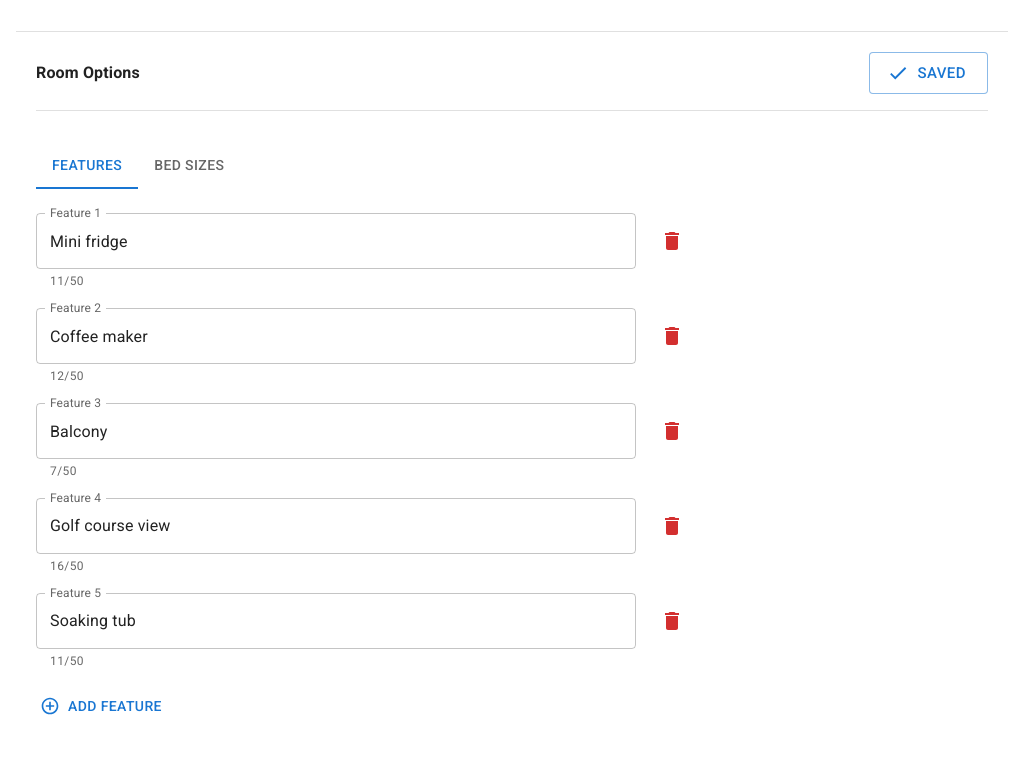
Test: Room Options page › refuses a duplicate name in any case and focuses the field
(page scrolled)
Click the button "Add Feature" at (103, 706), box [36,688,170,724]
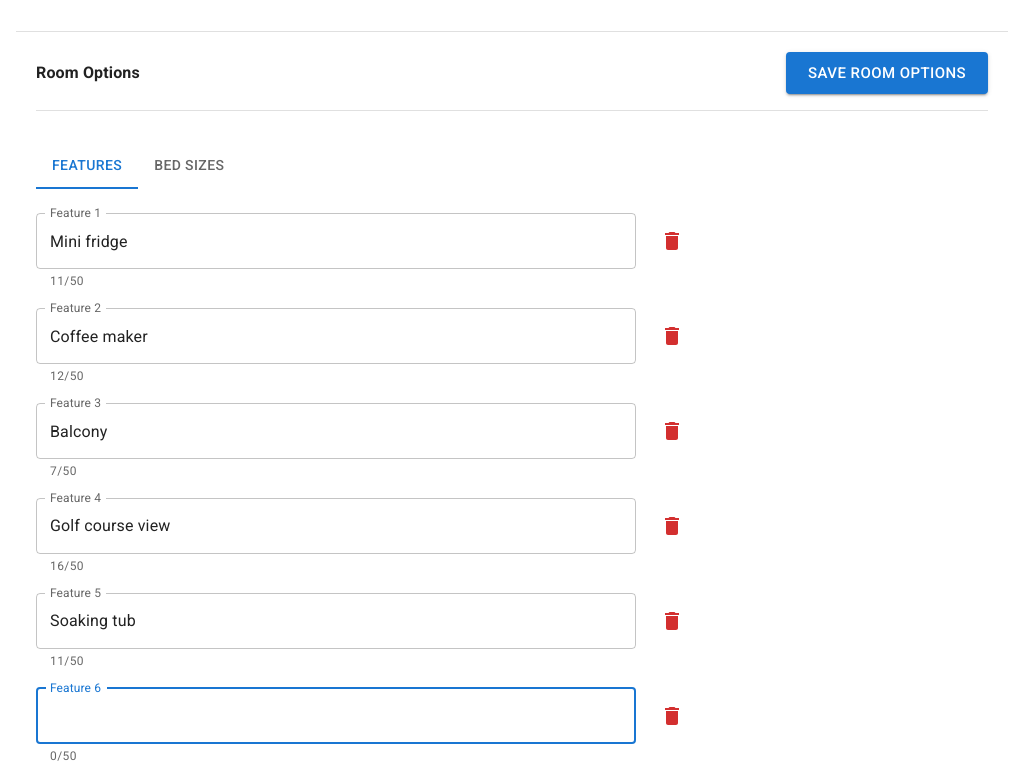
Type "BALCONY" into the field labelled "Feature 6" at (336, 716), box [36,688,636,744]
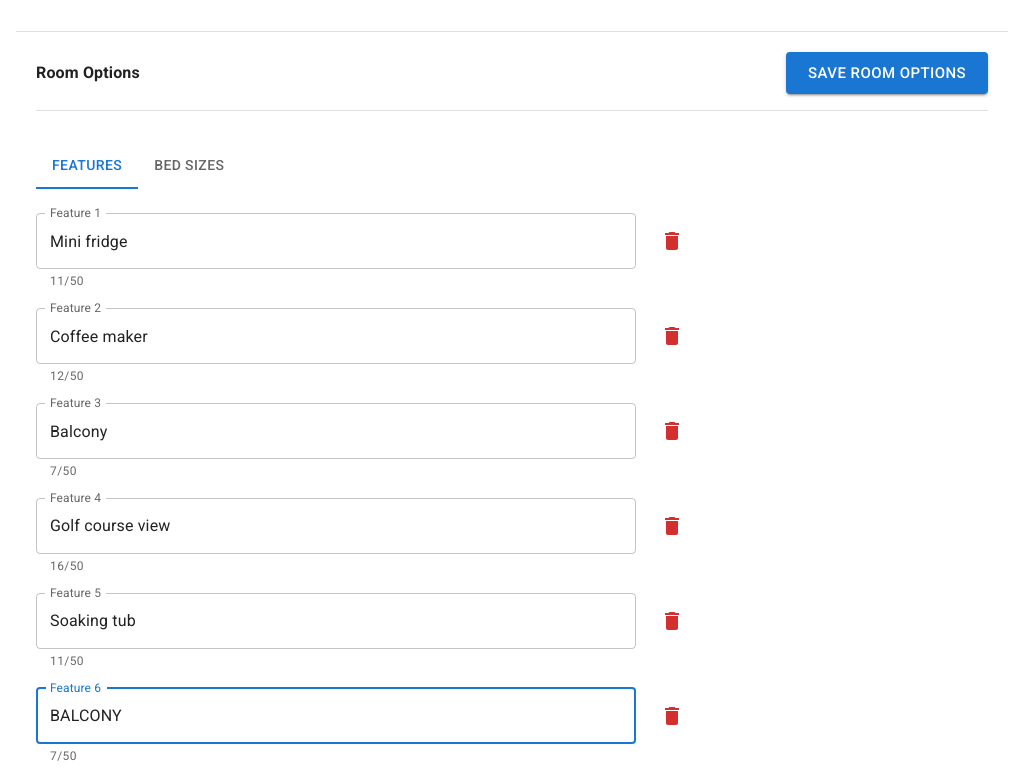
Click the button "Save Room Options" at (887, 73), box [786,52,988,94]
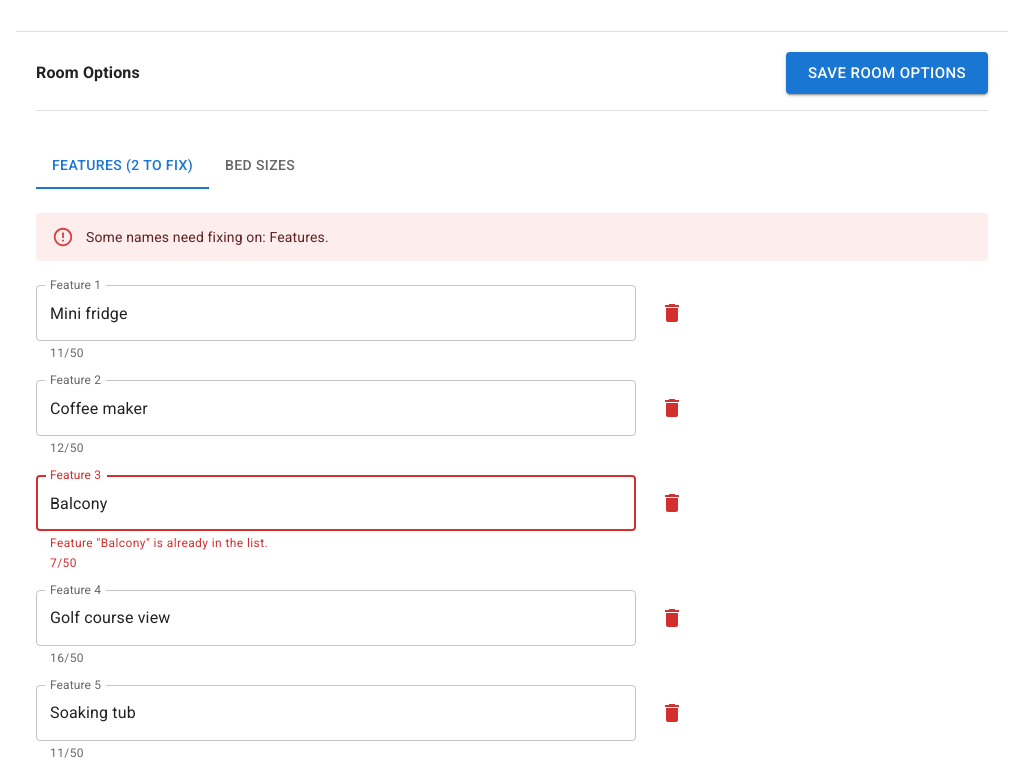
Now the text "Feature \"Balcony\" is already in the list." is shown 2 times
